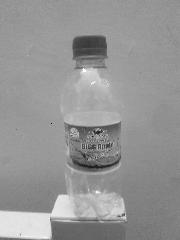plastic: (60, 29, 126, 216)
